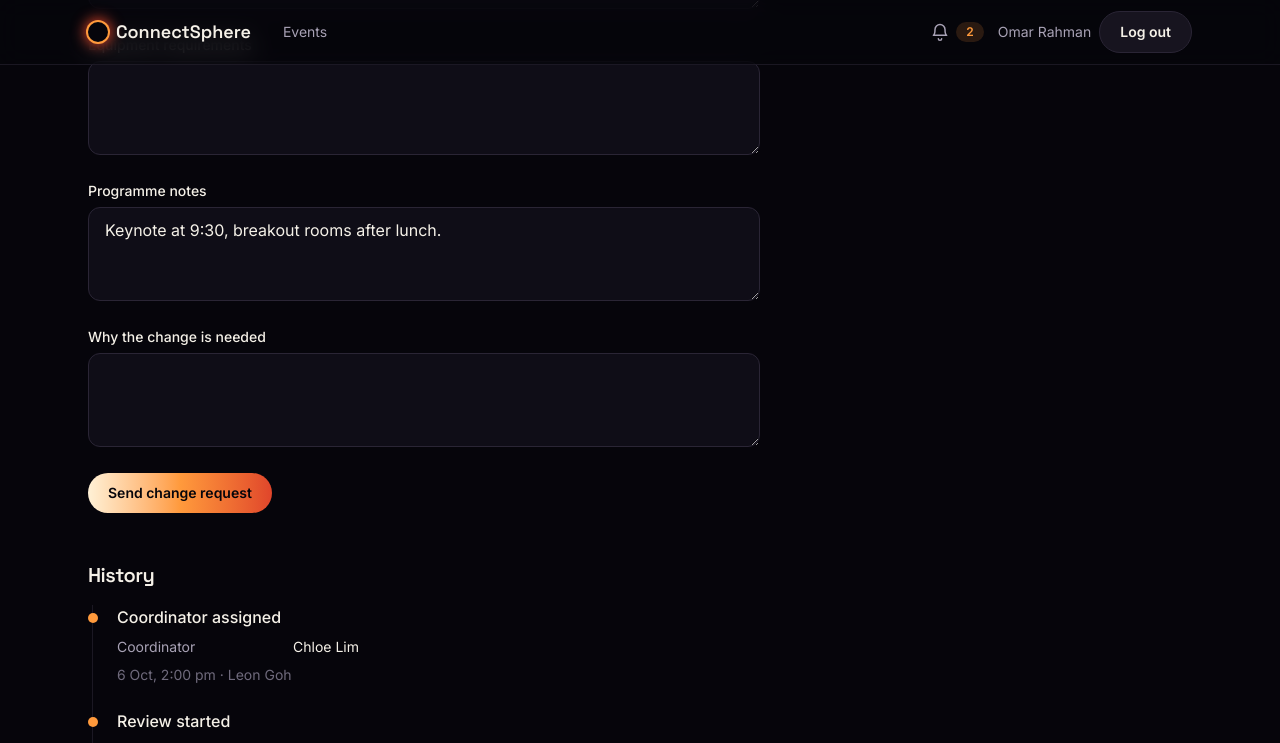
Test case: SCRUM-56 AC6, AC7 the refusals, as the backend words them › shows the backend's message when nothing would change
(page scrolled)
Type "Speaker lands late." into the text box labelled "Why the change is needed" at (424, 400), box [88,353,760,447]
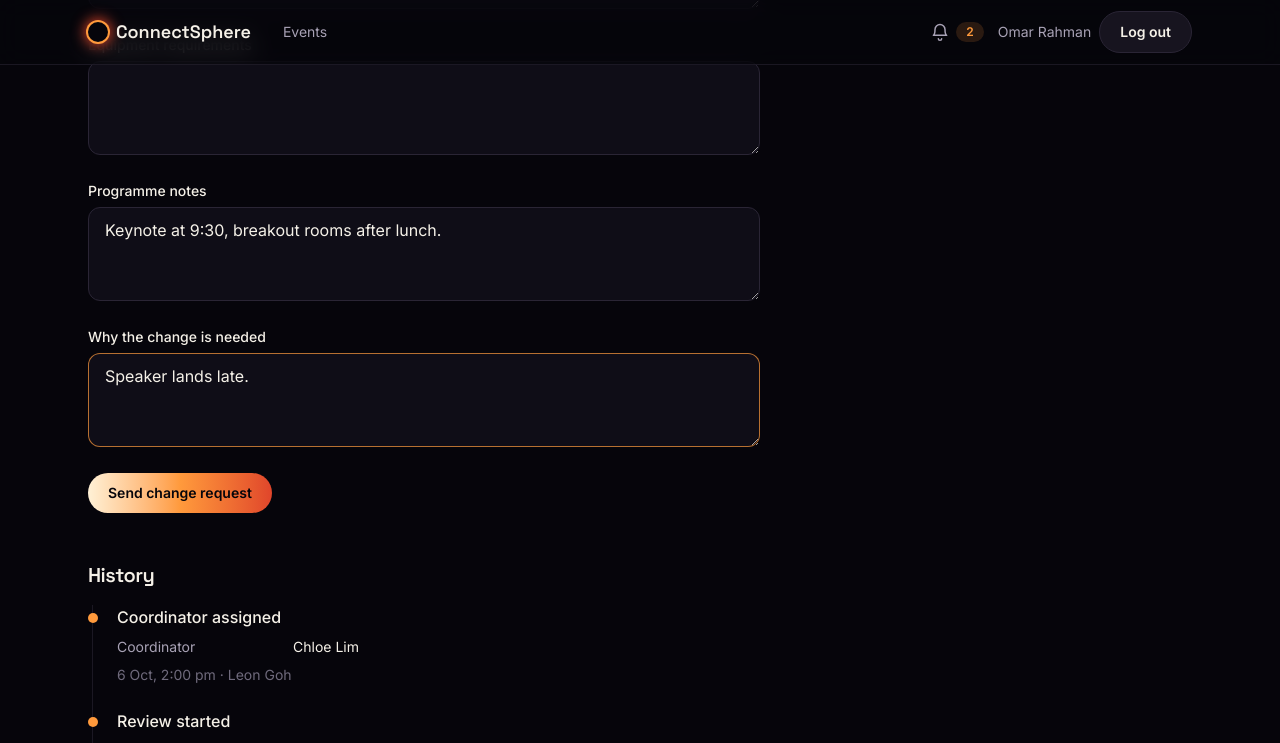
Click the button "Send change request" at (180, 493), box [88,473,272,513]
(page scrolled)
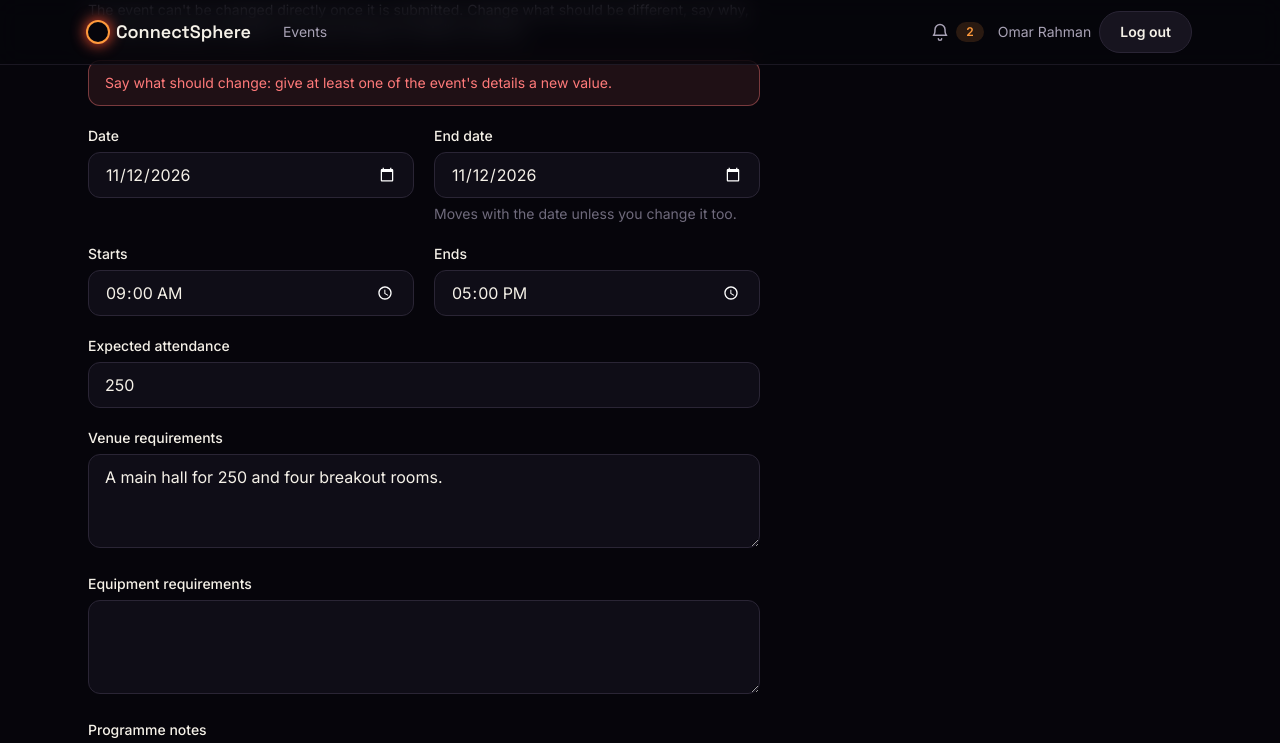
Expected: the message reads "Say what should change: give at least one of the event's details a new value.", [105,74,612,91]
